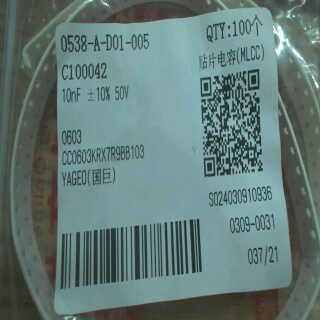10nF: (60, 84, 87, 109)
